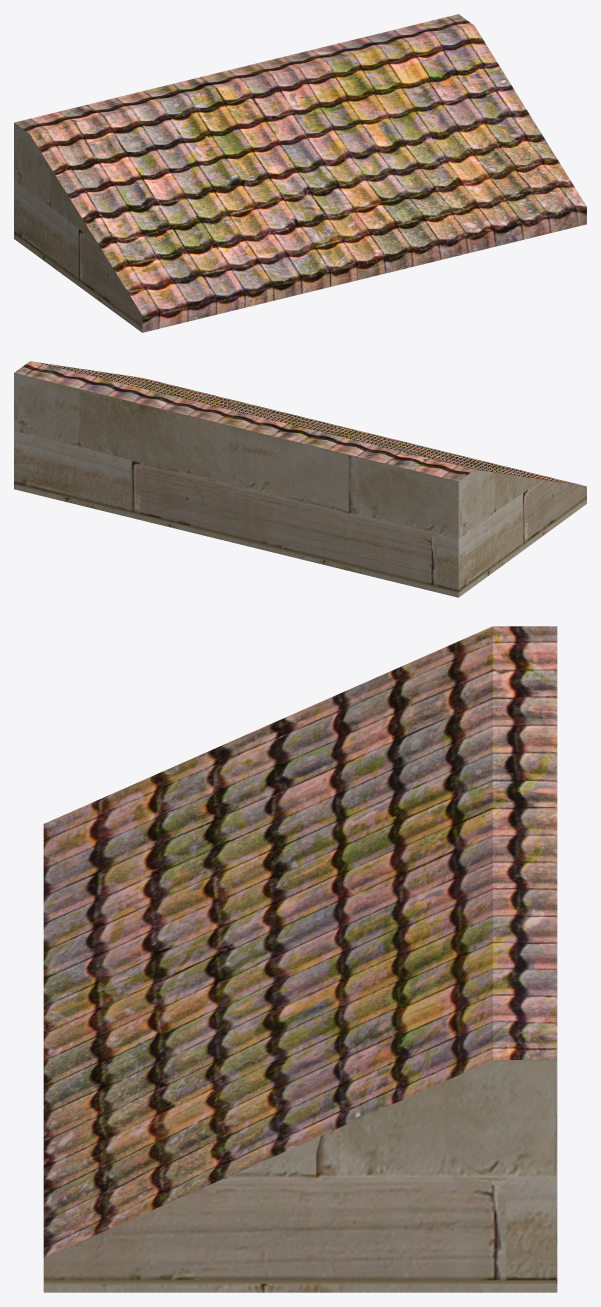
File: svspartaroof1.dae
3 views of the same model, one above another, from view 1: azimuth 30°, elevation 25°; view 2: azimuth 150°, elevation 25°; view 3: azimuth 270°, elevation 25° (orthographic). The views are drawn at different scales.
Parts seen in each view (by area): view 1: cube12_sep24-0; view 2: cube12_sep24-0; view 3: cube12_sep24-0.
Part boxes in pixels (x1,y1,x2,y2): cube12_sep24-0: (14, 14, 586, 332); cube12_sep24-0: (14, 361, 586, 597); cube12_sep24-0: (43, 626, 557, 1292).
Size of the model in its own units: 300 by 75 by 150.
